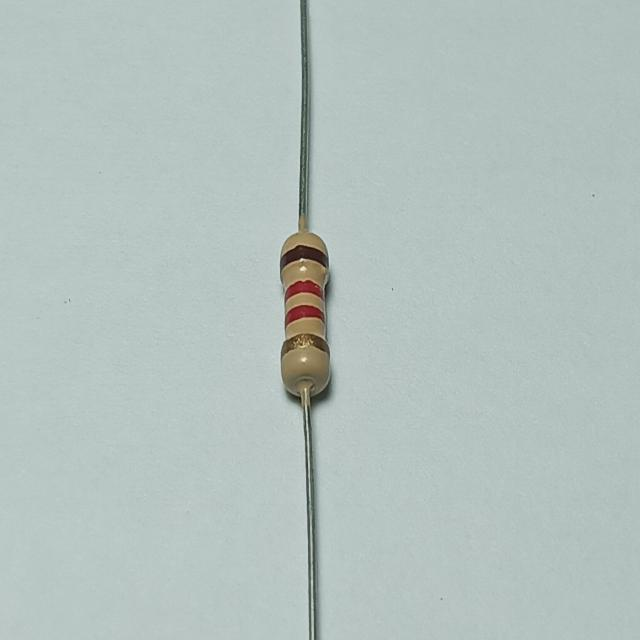1.2k ohms: (274, 224, 338, 413)
